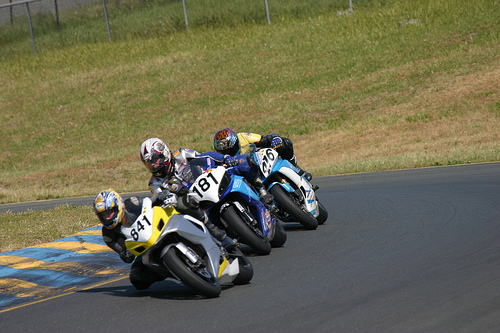helmet: (136, 139, 172, 169), (92, 191, 124, 223), (215, 131, 235, 150)
